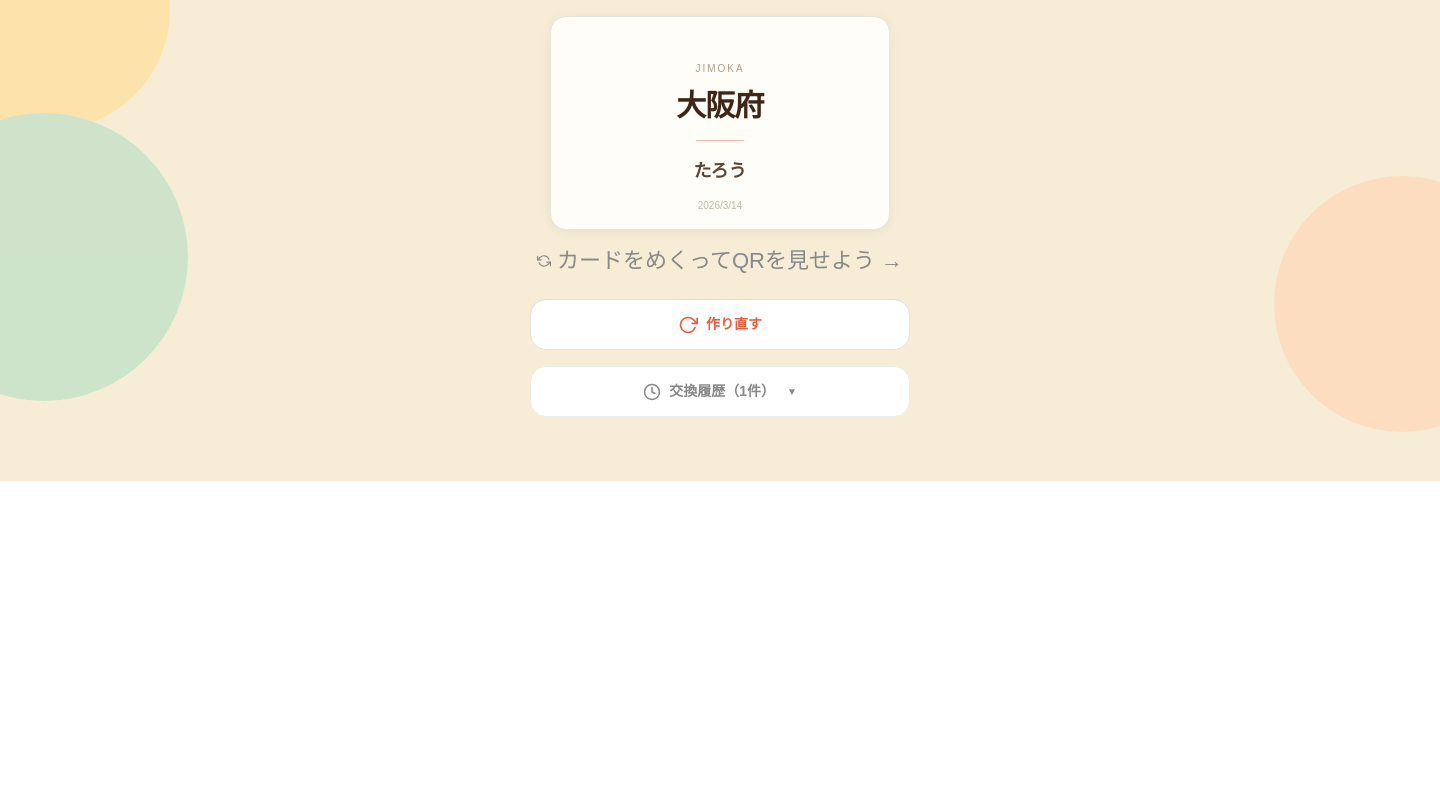
Test: MeishiPreviewPage › 交換履歴がある場合は一覧を表示する
Click the button "交換履歴（1件） ▼" at x=720, y=392, box [530,366,910,417]
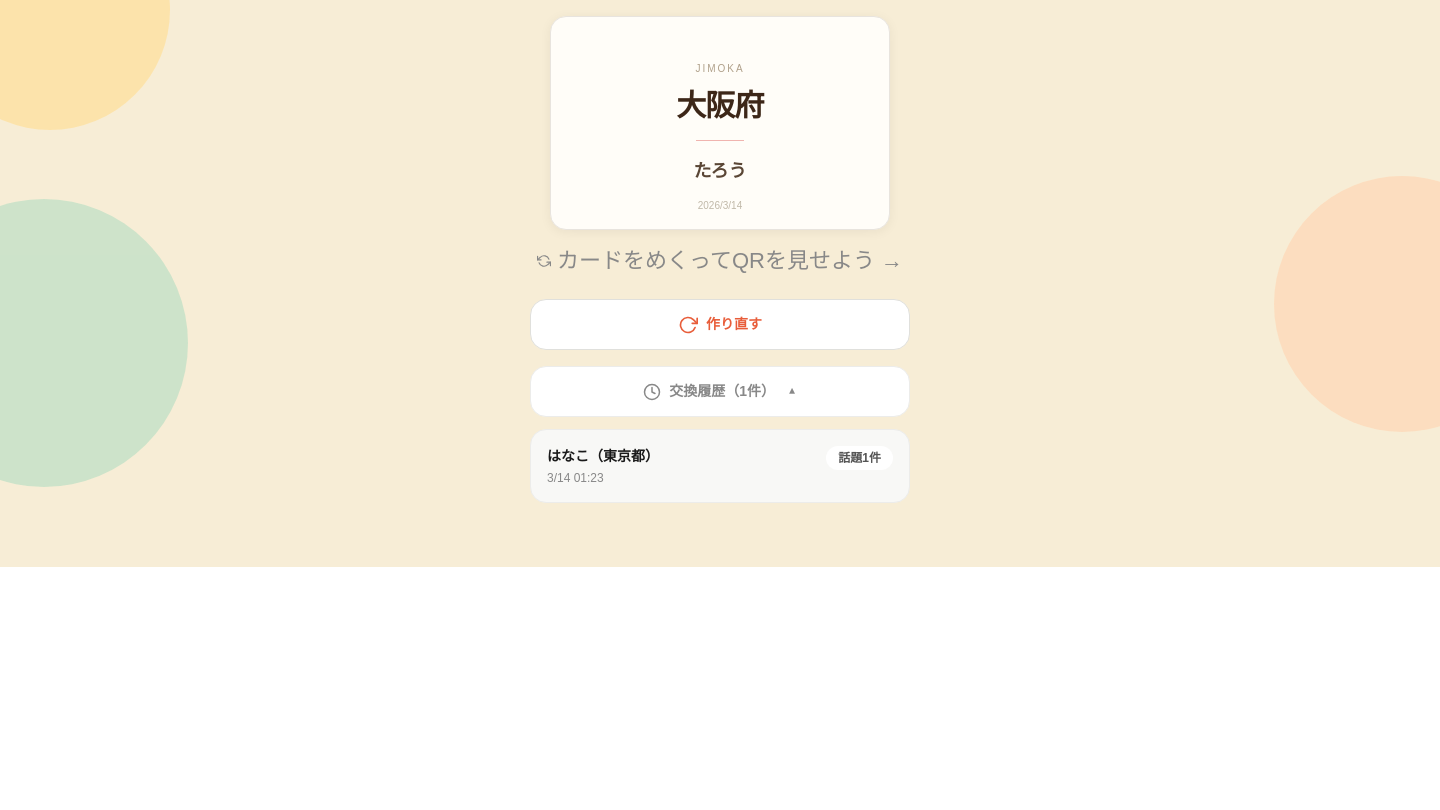
Result: the text "はなこ（東京都）" is shown at [547,446,659,466]
